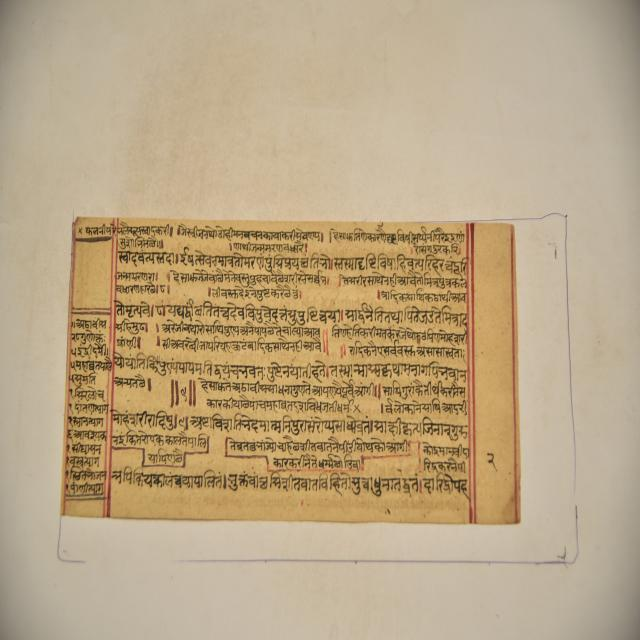text_paragraph: (59, 217, 516, 525)
